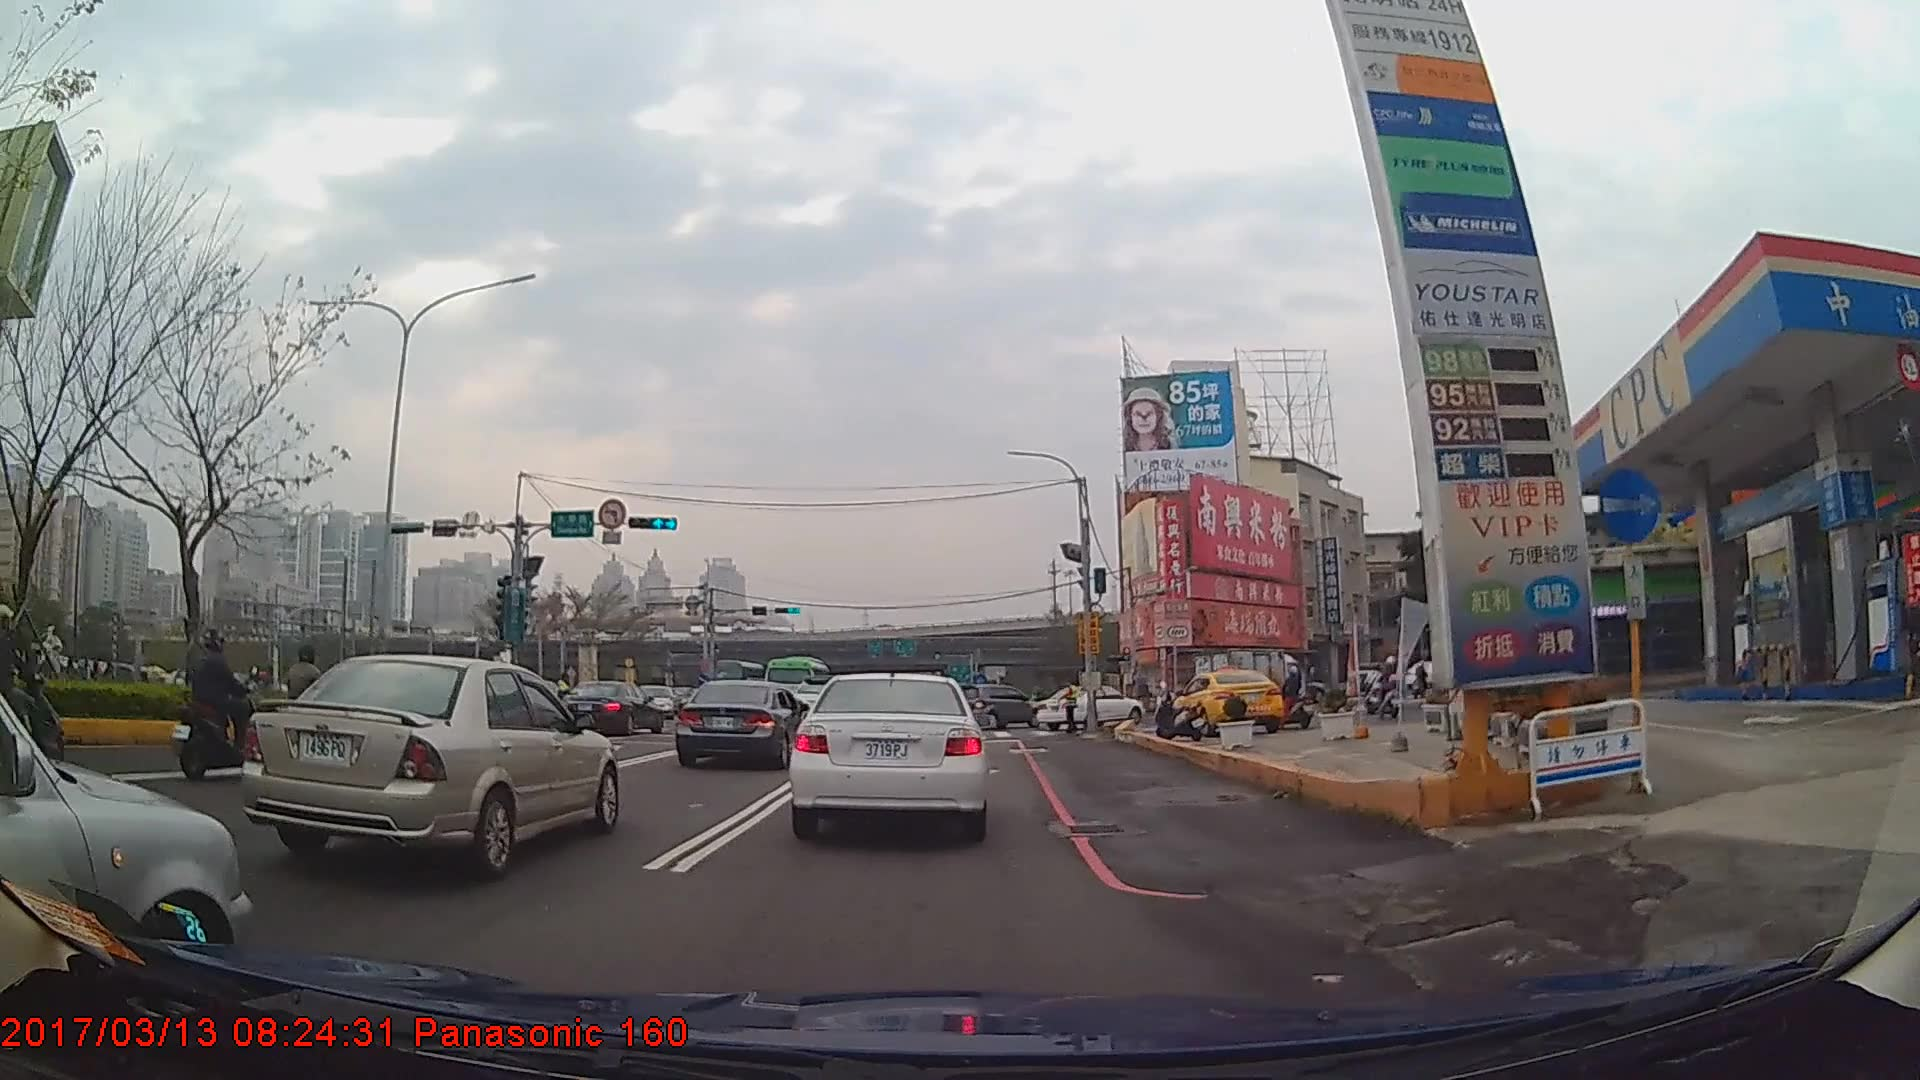pedestrian: (1055, 678, 1077, 735)
rider: (172, 627, 270, 781), (1, 604, 69, 778), (285, 644, 357, 762), (1276, 666, 1314, 729), (1368, 657, 1403, 721), (1363, 664, 1385, 716)
vehicle: (239, 651, 620, 879), (0, 689, 252, 990), (790, 666, 989, 838), (675, 679, 809, 769), (1190, 648, 1307, 715), (1171, 668, 1287, 734), (559, 679, 664, 733), (1038, 681, 1145, 729), (954, 682, 1042, 728), (762, 654, 833, 711)
